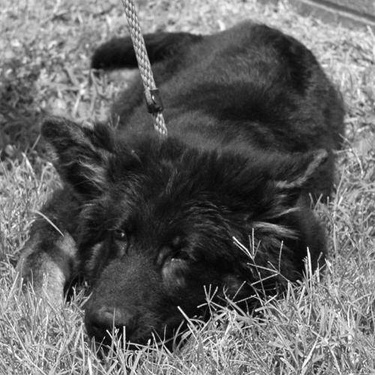dog: (3, 17, 353, 362), (7, 20, 358, 358)
